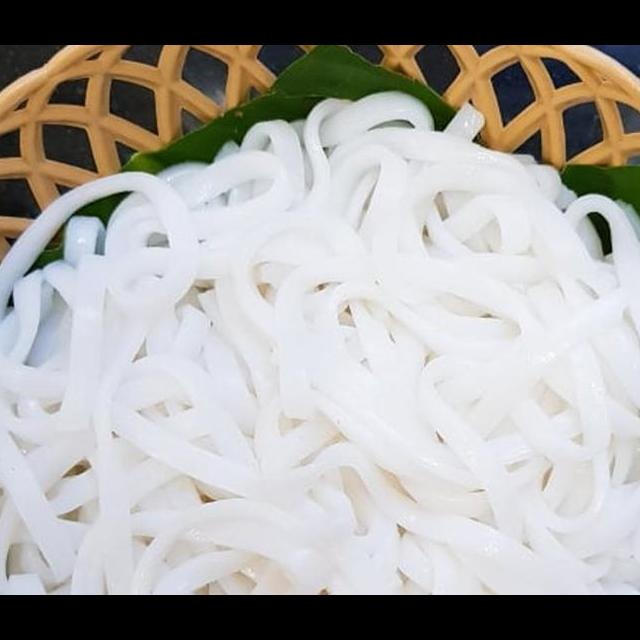banh pho: (0, 78, 640, 595)
